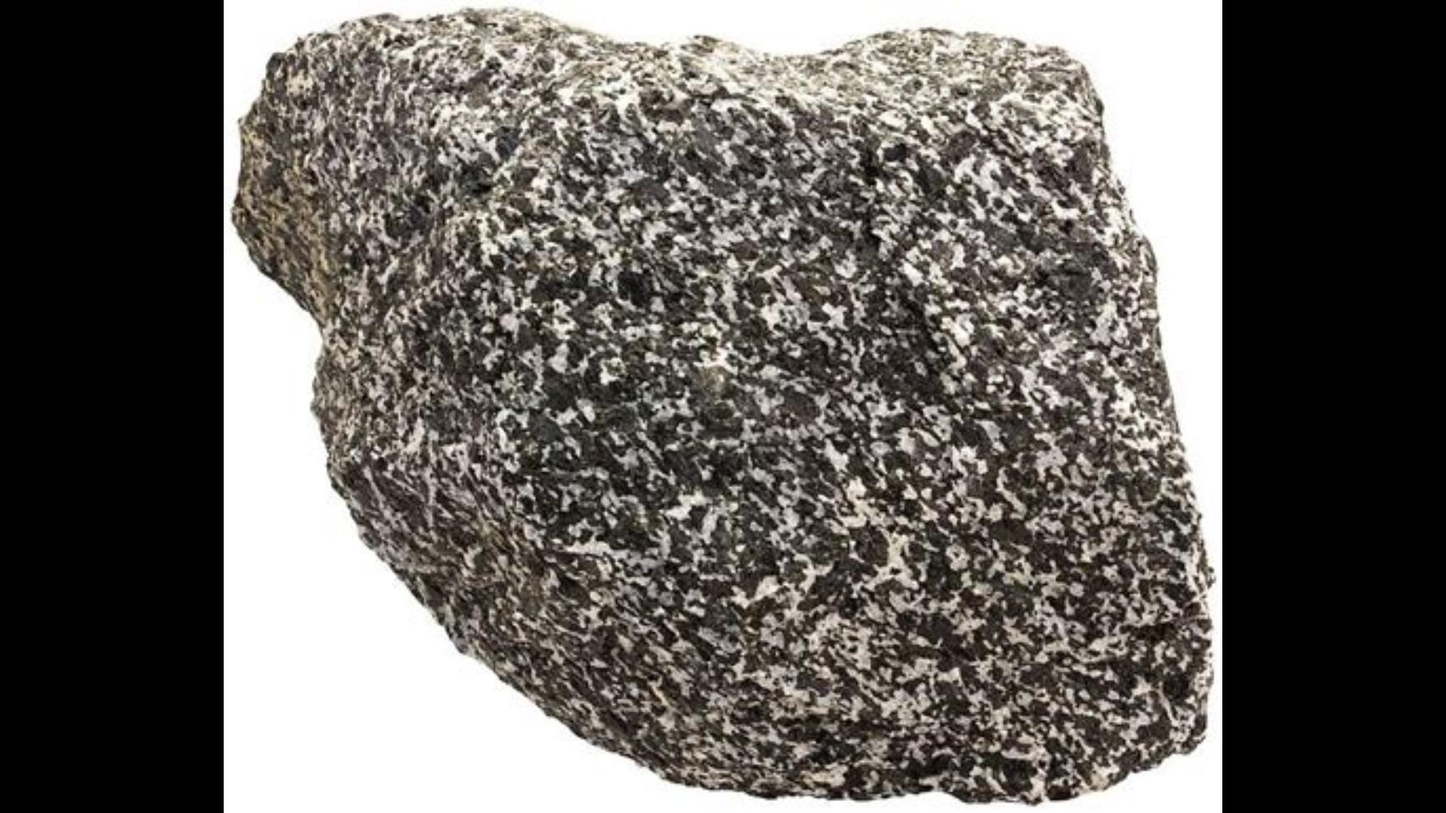rock: (232, 11, 1197, 798)
